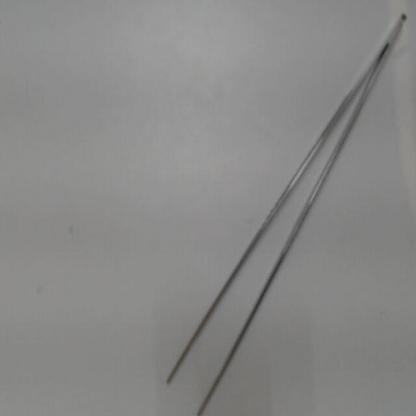DeBakey Dissector: (151, 6, 409, 414)
